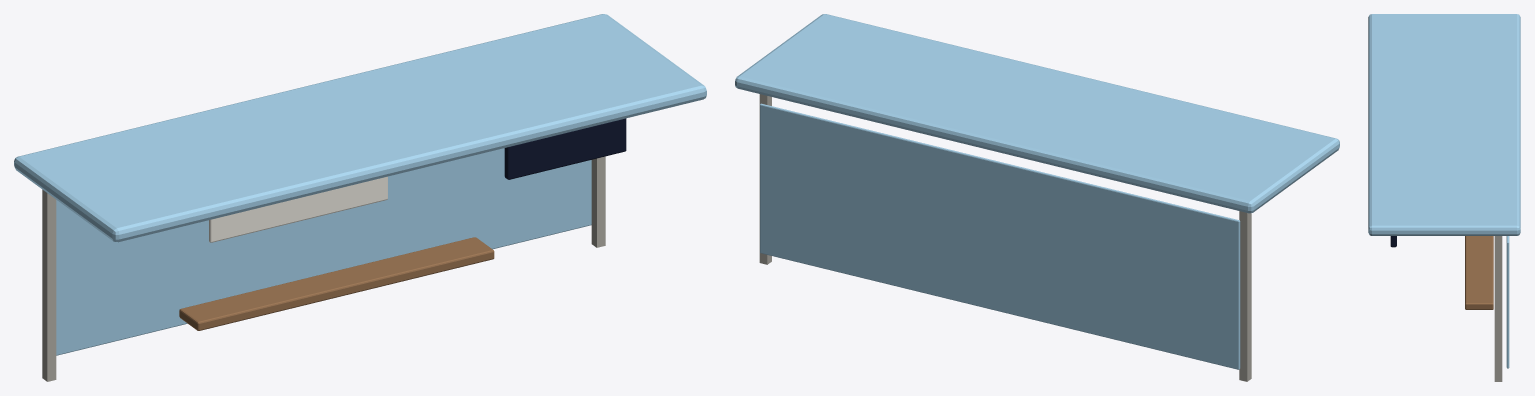
File: BusStop_blockout.glb
The picture shows the model from 3 angles, left to right: view 1: azimuth 30°, elevation 25°; view 2: azimuth 150°, elevation 25°; view 3: azimuth 270°, elevation 25°; orthographic projection. The views are drawn at different scales.
Visible parts, largest first — view 1: SF01_BusStop_Roof_L0, SF01_BusStop_BackGlass_L0, SF01_BusStop_Bench_L0, SF01_BusStop_StopName_L0, SF01_BusStop_ArrivalLED_L0, SF01_BusStop_Post0_L0, SF01_BusStop_Post1_L0; view 2: SF01_BusStop_BackGlass_L0, SF01_BusStop_Roof_L0, SF01_BusStop_Post0_L0; view 3: SF01_BusStop_Roof_L0, SF01_BusStop_Bench_L0, SF01_BusStop_Post1_L0, SF01_BusStop_BackGlass_L0.
Boxes of the visible parts, box(x1,y1,x2,y2) form: SF01_BusStop_Roof_L0: box(14, 14, 706, 242); SF01_BusStop_BackGlass_L0: box(56, 148, 591, 355); SF01_BusStop_Bench_L0: box(179, 237, 494, 330); SF01_BusStop_StopName_L0: box(209, 176, 387, 242); SF01_BusStop_ArrivalLED_L0: box(504, 118, 626, 179); SF01_BusStop_Post0_L0: box(42, 189, 56, 381); SF01_BusStop_Post1_L0: box(591, 156, 605, 247); SF01_BusStop_BackGlass_L0: box(760, 103, 1240, 369); SF01_BusStop_Roof_L0: box(735, 14, 1339, 213); SF01_BusStop_Post0_L0: box(1239, 211, 1251, 381); SF01_BusStop_Roof_L0: box(1368, 14, 1520, 235); SF01_BusStop_Bench_L0: box(1465, 236, 1493, 309); SF01_BusStop_Post1_L0: box(1494, 236, 1502, 381); SF01_BusStop_BackGlass_L0: box(1506, 236, 1509, 368).
Size of the model in its own units: 8 by 2.8 by 2.4.
